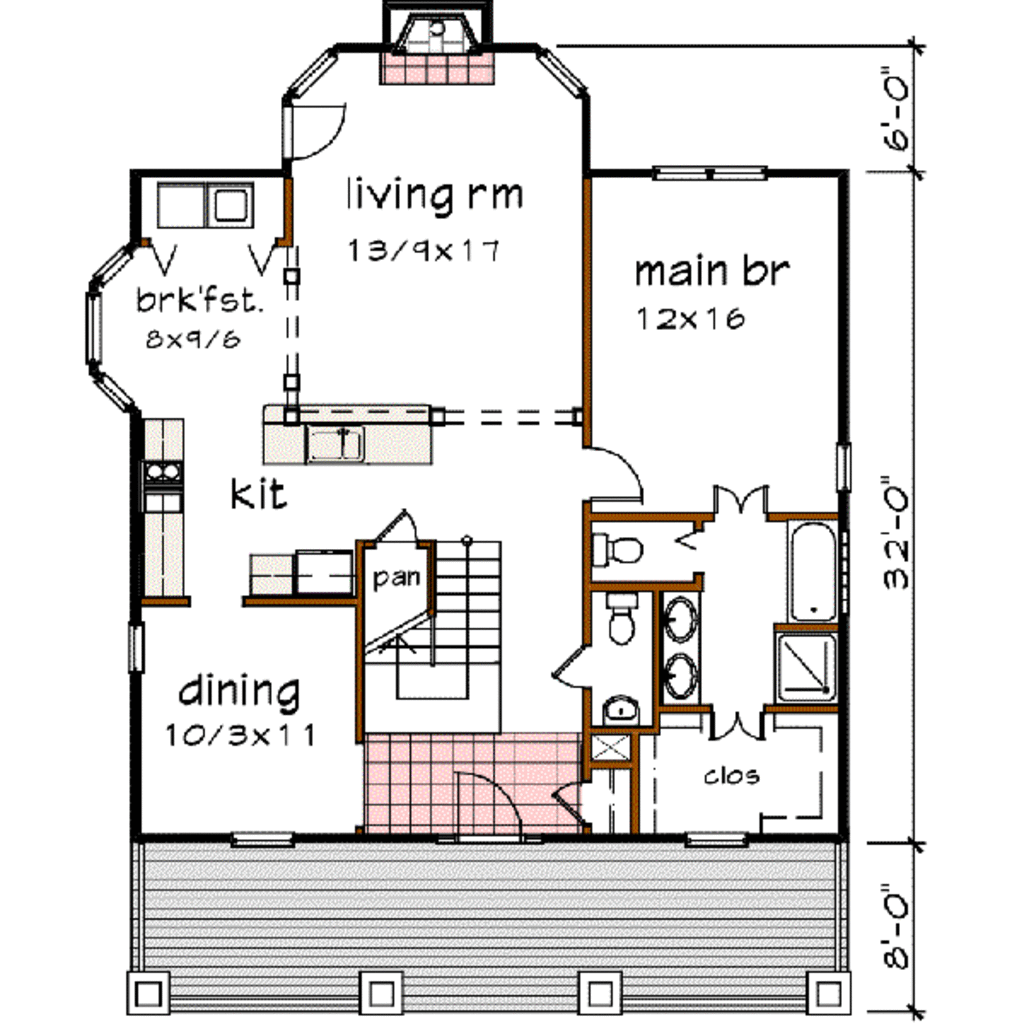door: (449, 771, 532, 847), (278, 98, 359, 165), (581, 439, 648, 509), (698, 705, 781, 747), (546, 635, 603, 693), (549, 778, 602, 832), (706, 478, 779, 516)
large_sink: (564, 524, 665, 579), (600, 585, 643, 652)
small_sink: (649, 579, 706, 711), (592, 693, 656, 730)
stairs: (364, 539, 511, 736)
tub: (778, 520, 838, 622)
twin_sink: (302, 425, 373, 471)
window: (81, 249, 138, 414), (537, 39, 587, 103), (292, 46, 352, 98), (822, 441, 857, 500), (648, 165, 768, 182), (121, 624, 156, 676), (224, 830, 297, 851), (686, 827, 752, 849)
